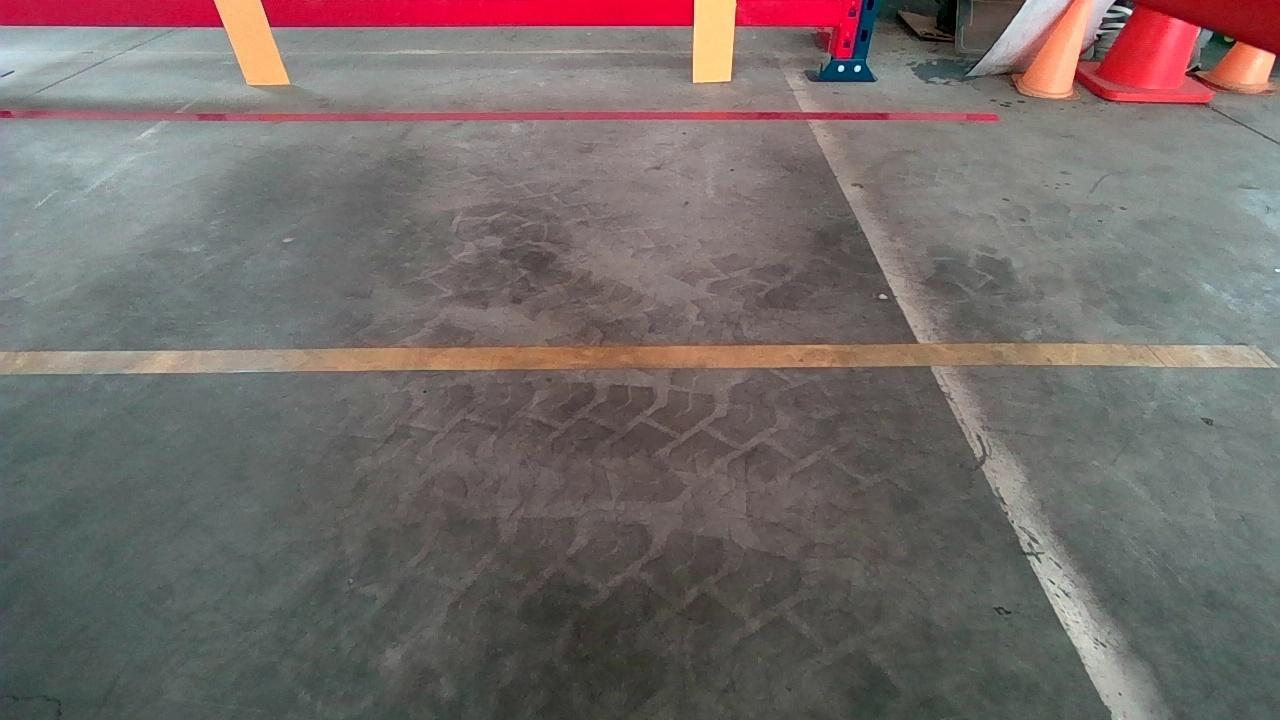h_rack: (1, 0, 848, 31)
orange_strip: (215, 0, 288, 79), (693, 0, 735, 79)
red_line: (3, 102, 997, 128)
yellow_line: (0, 338, 1280, 383)
